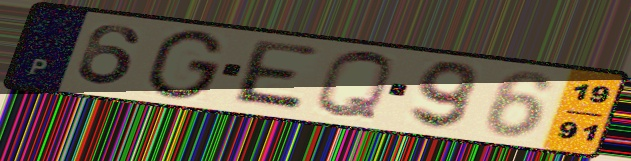6: (477, 68, 560, 142), (75, 23, 143, 88)
9: (405, 60, 482, 131)
E: (226, 37, 324, 115)
G: (141, 28, 229, 102)
Q: (311, 48, 398, 123)
